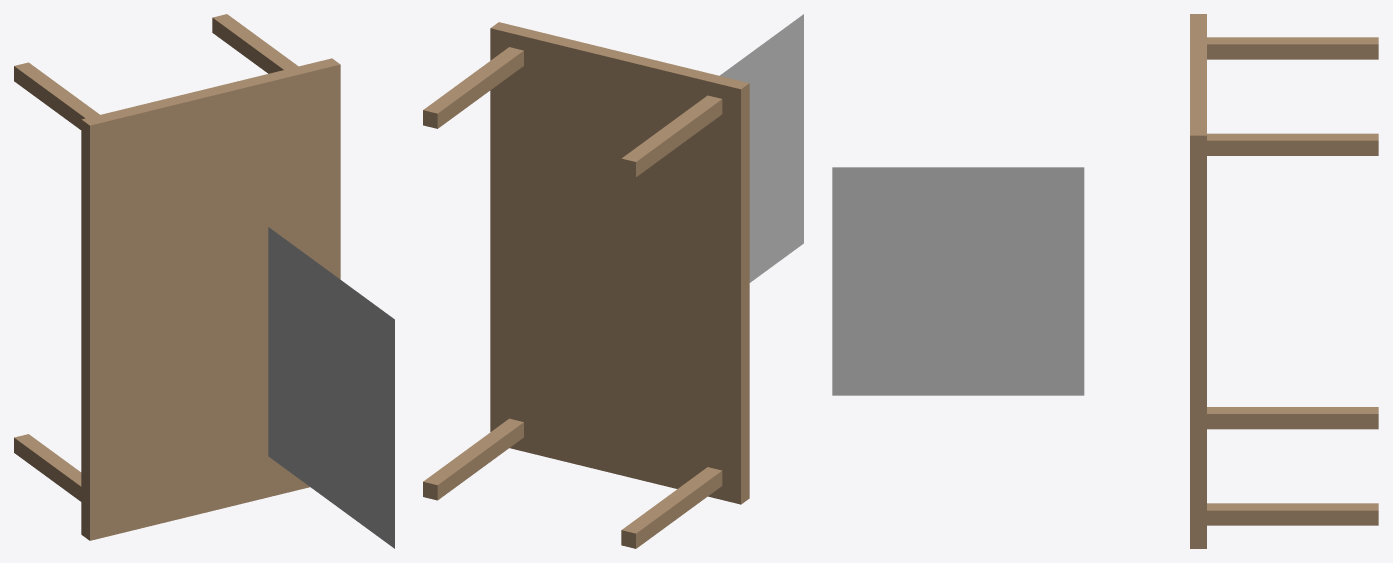
The model's file is simple_cloth.gltf.
3 renders of one model, left to right at view 1: azimuth 30°, elevation 25°; view 2: azimuth 150°, elevation 25°; view 3: azimuth 270°, elevation 25°, orthographic.
Parts seen in each view (by area): view 1: PerspectiveTableTop, SimpleCloth, PerspectiveTableLegC, PerspectiveTableLegD, PerspectiveTableLegA; view 2: PerspectiveTableTop, SimpleCloth, PerspectiveTableLegC, PerspectiveTableLegA, PerspectiveTableLegD, PerspectiveTableLegB; view 3: SimpleCloth, PerspectiveTableTop, PerspectiveTableLegA, PerspectiveTableLegB, PerspectiveTableLegC, PerspectiveTableLegD.
Boxes of the visible parts, x1=… form: PerspectiveTableTop: x1=81, y1=58, x2=340, y2=540; SimpleCloth: x1=268, y1=227, x2=394, y2=548; PerspectiveTableLegC: x1=14, y1=62, x2=99, y2=129; PerspectiveTableLegD: x1=212, y1=14, x2=298, y2=73; PerspectiveTableLegA: x1=14, y1=434, x2=81, y2=501; PerspectiveTableTop: x1=490, y1=22, x2=749, y2=504; SimpleCloth: x1=719, y1=14, x2=803, y2=282; PerspectiveTableLegC: x1=621, y1=95, x2=722, y2=177; PerspectiveTableLegA: x1=621, y1=467, x2=722, y2=548; PerspectiveTableLegD: x1=423, y1=47, x2=523, y2=128; PerspectiveTableLegB: x1=423, y1=418, x2=523, y2=500; SimpleCloth: x1=832, y1=167, x2=1084, y2=395; PerspectiveTableTop: x1=1190, y1=14, x2=1206, y2=548; PerspectiveTableLegA: x1=1207, y1=407, x2=1378, y2=429; PerspectiveTableLegB: x1=1207, y1=503, x2=1378, y2=525; PerspectiveTableLegC: x1=1207, y1=37, x2=1378, y2=59; PerspectiveTableLegD: x1=1207, y1=133, x2=1378, y2=155.
Bounding box in the file's own units: 2.4 × 3.8 × 4.55.
